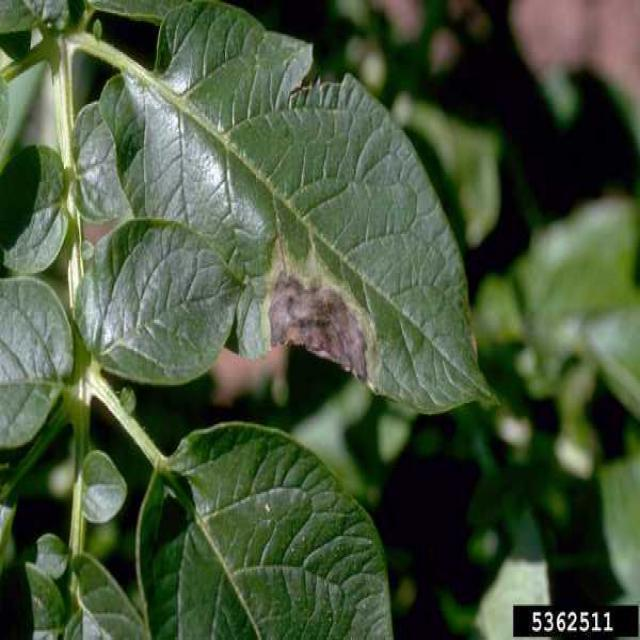Healthy Leaf: (76, 212, 242, 392), (78, 447, 128, 522)
